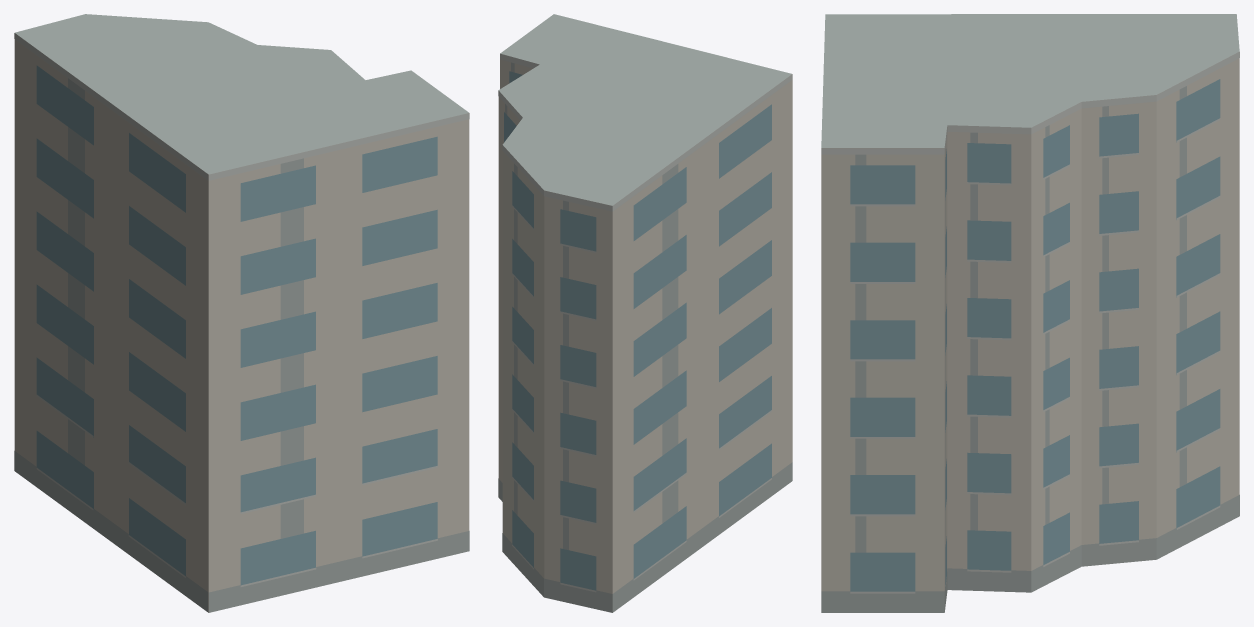
File: survey-upis-32829020.glb
The picture shows the model from 3 angles, left to right: view 1: azimuth 30°, elevation 25°; view 2: azimuth 150°, elevation 25°; view 3: azimuth 270°, elevation 25°; orthographic projection. The views are drawn at different scales.
Visible parts, largest first — view 1: survey-upis-32829020.tmp; view 2: survey-upis-32829020.tmp; view 3: survey-upis-32829020.tmp.
Boxes of the visible parts, box(x1,y1,x2,y2) form: survey-upis-32829020.tmp: box(14, 14, 469, 612); survey-upis-32829020.tmp: box(498, 14, 792, 612); survey-upis-32829020.tmp: box(821, 14, 1239, 612).
Bounding box in the file's own units: 10.54 × 17 × 13.88.
